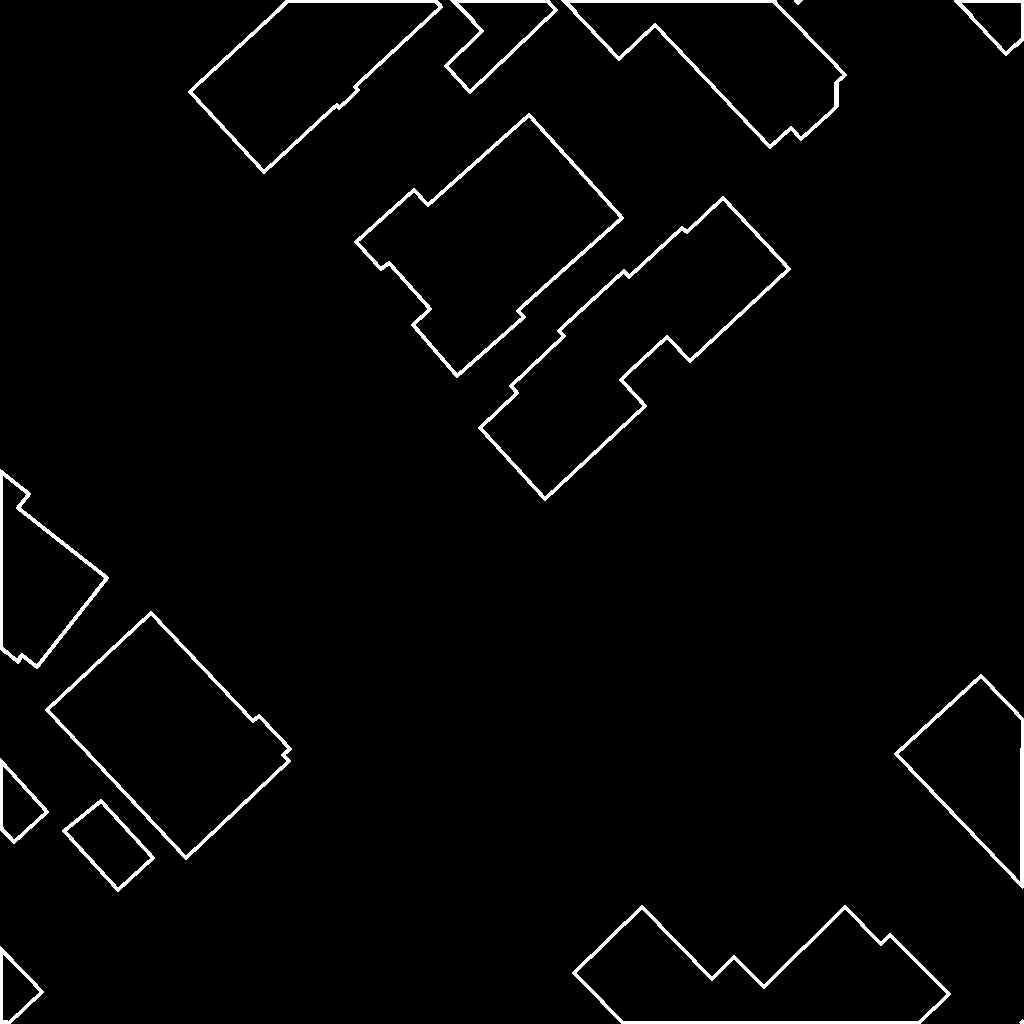building: (480, 198, 790, 500), (356, 115, 623, 377), (47, 613, 291, 859), (574, 907, 950, 1024), (190, 0, 442, 173), (563, 0, 846, 148), (896, 676, 1024, 888), (0, 471, 108, 668), (446, 0, 557, 93), (64, 801, 154, 891), (0, 760, 48, 843), (955, 0, 1024, 55), (0, 948, 43, 1024), (1021, 1021, 1024, 1024)
